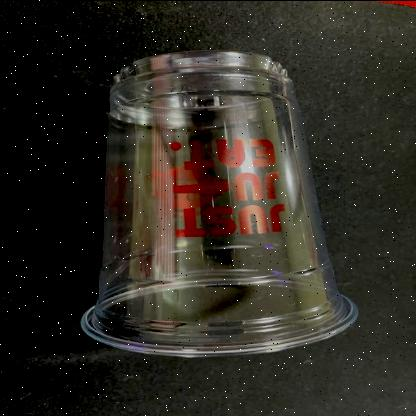Others: (74, 49, 358, 355)
